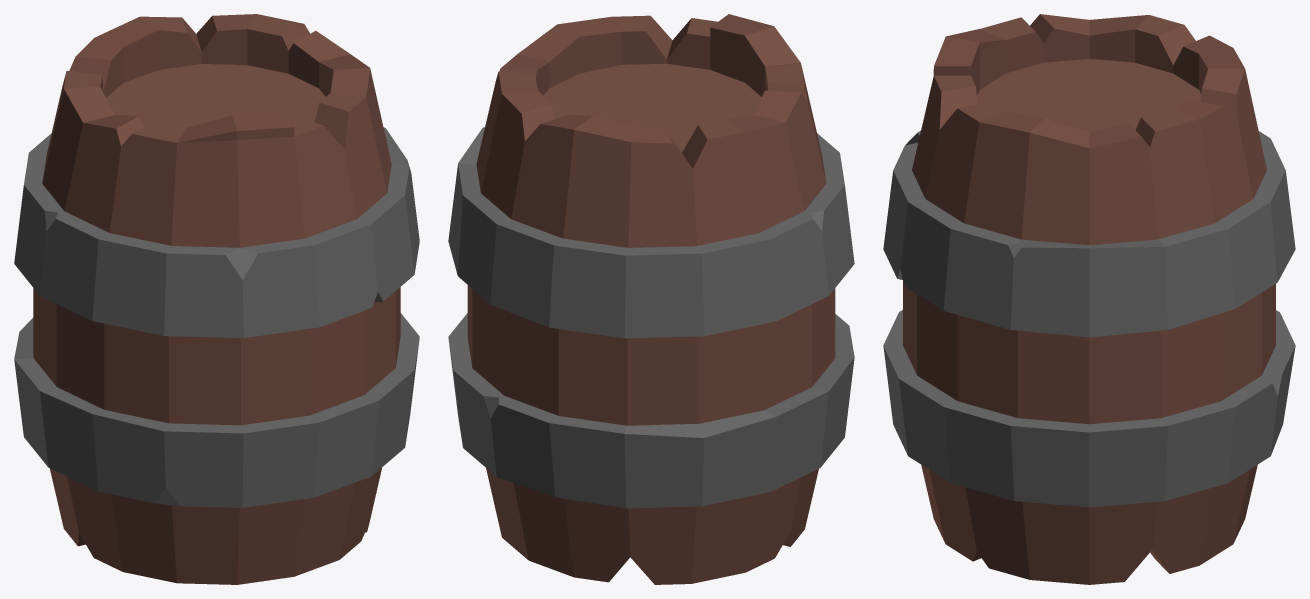
File: barrel2.fbx
3 renders of one model, left to right at view 1: azimuth 30°, elevation 25°; view 2: azimuth 150°, elevation 25°; view 3: azimuth 270°, elevation 25°, orthographic.
Visible parts, largest first — view 1: Cylinder; view 2: Cylinder; view 3: Cylinder.
Boxes of the visible parts, x1,y1,x2,y2 form: Cylinder: [14, 14, 419, 584]; Cylinder: [448, 14, 854, 584]; Cylinder: [883, 14, 1295, 584].
Bounding box in the file's own units: 185 × 227 × 185.
